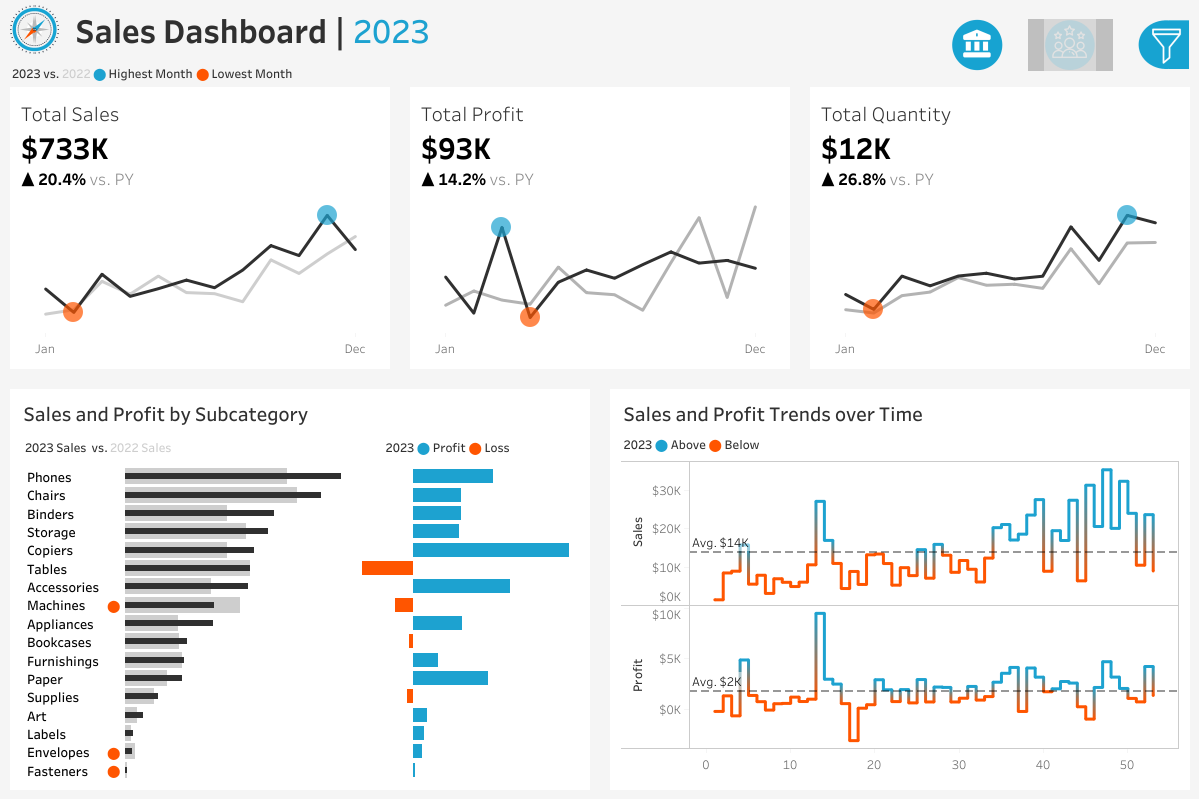

The page's visual inventory and layout, read from the dashboard file:
{"tool":"tableau","page":{"name":"Sales Dashboard","canvas":[1200,800],"ordinal":0},"visuals":[{"type":"image","param":"Image/Icon - Logo.png","box":[0,0,69,60]},{"type":"text","box":[69,0,849,60]},{"type":"blank","box":[953,7,239,87]},{"type":"dashboard-object","box":[930,15,94,60]},{"type":"dashboard-object","box":[1024,15,93,60]},{"type":"worksheet","title":"Legend KPI","mark":"Automatic","box":[0,60,1200,27]},{"type":"worksheet","title":"KPI Sales ","mark":"Automatic","rows":["Calculation_910853065968353280"],"cols":["Order Date"],"box":[0,87,400,292]},{"type":"worksheet","title":"KPI Profit","mark":"Automatic","rows":["Calculation_53480287188893701"],"cols":["Order Date"],"box":[400,87,400,292]},{"type":"worksheet","title":"KPI Quantity","mark":"Automatic","rows":["Calculation_53480287208849421"],"cols":["Order Date"],"box":[800,87,400,292]},{"type":"text","box":[953,94,239,32]},{"type":"parameter","param":"[Parameters].[Parameter 1]","box":[953,126,239,52]},{"type":"blank","box":[953,178,239,37]},{"type":"text","box":[953,215,239,29]},{"type":"filter","title":"KPI Sales ","param":"[federated.163x6jl0sxaot118f7wp01sdjzy8].[none:Category:nk]","box":[953,244,239,52]},{"type":"filter","title":"KPI Sales ","param":"[federated.163x6jl0sxaot118f7wp01sdjzy8].[none:Sub-Category:nk]","box":[953,296,239,52]},{"type":"text","box":[953,348,239,29]},{"type":"filter","title":"KPI Sales ","param":"[federated.163x6jl0sxaot118f7wp01sdjzy8].[none:Region:nk]","box":[953,377,239,52]},{"type":"text","box":[17,396,566,34]},{"type":"text","box":[617,396,566,34]},{"type":"filter","title":"KPI Sales ","param":"[federated.163x6jl0sxaot118f7wp01sdjzy8].[none:State:nk]","box":[953,429,239,52]},{"type":"worksheet","title":"Legend Subcategory","mark":"Automatic","box":[17,430,362,32]},{"type":"text","box":[379,430,204,32]},{"type":"text","box":[617,430,566,25]},{"type":"worksheet","title":"Weekly Trends","mark":"Automatic","rows":["Calculation_77124184901099520","Calculation_53480287180210176"],"cols":["Order Date"],"box":[617,455,566,328]},{"type":"worksheet","title":"Subcategory Comparison","mark":"Bar","rows":["Sub-Category","Calculation_520165798614724609"],"cols":["CY Sales (copy)_77124184901931009","Calculation_77124184901099520","Calculation_53480287180210176"],"box":[17,462,566,321]},{"type":"filter","title":"KPI Sales ","param":"[federated.163x6jl0sxaot118f7wp01sdjzy8].[none:City:nk]","box":[953,481,239,52]}]}

Visuals, with their boxes in screenshot pixels (x1, y1, x2, y2), scaled from the page's 1200x800 canvas onto the 1199x799 screenshot:
image: box(0, 0, 69, 60)
text: box(69, 0, 917, 60)
blank: box(952, 7, 1191, 94)
dashboard-object: box(929, 15, 1023, 75)
dashboard-object: box(1023, 15, 1116, 75)
"Legend KPI" worksheet: box(0, 60, 1198, 87)
"KPI Sales " worksheet: box(0, 87, 400, 379)
"KPI Profit" worksheet: box(400, 87, 799, 379)
"KPI Quantity" worksheet: box(799, 87, 1198, 379)
text: box(952, 94, 1191, 126)
parameter: box(952, 126, 1191, 178)
blank: box(952, 178, 1191, 215)
text: box(952, 215, 1191, 244)
"KPI Sales " filter: box(952, 244, 1191, 296)
"KPI Sales " filter: box(952, 296, 1191, 348)
text: box(952, 348, 1191, 377)
"KPI Sales " filter: box(952, 377, 1191, 428)
text: box(17, 396, 583, 429)
text: box(616, 396, 1182, 429)
"KPI Sales " filter: box(952, 428, 1191, 480)
"Legend Subcategory" worksheet: box(17, 429, 379, 461)
text: box(379, 429, 583, 461)
text: box(616, 429, 1182, 454)
"Weekly Trends" worksheet: box(616, 454, 1182, 782)
"Subcategory Comparison" worksheet (Bar marks): box(17, 461, 583, 782)
"KPI Sales " filter: box(952, 480, 1191, 532)
